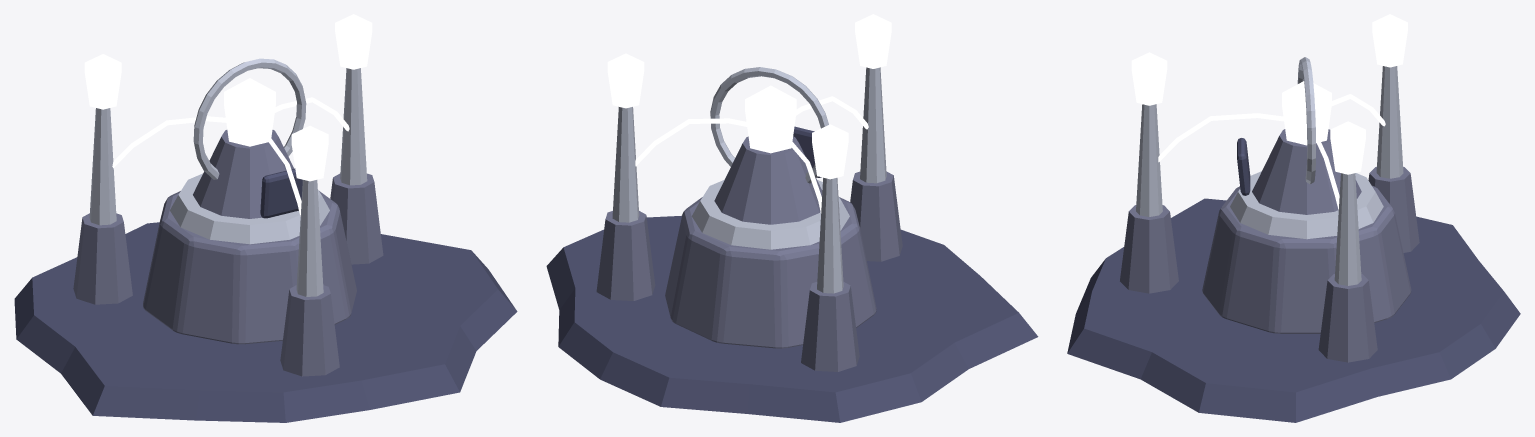
Rendered from thunder-highlands-lod2.glb.
3 views of the same model, side by side, from view 1: azimuth 30°, elevation 25°; view 2: azimuth 150°, elevation 25°; view 3: azimuth 270°, elevation 25° (orthographic). The views are drawn at different scales.
Visible parts, largest first — view 1: STONE_TERRAIN_SOCKET, STONE_OBSERVATORY_LOWER, STONE_OBSERVATORY_DOME, STONE_CONDUCTOR_BASE_2, STONE_CONDUCTOR_BASE_1, TRIM_OBSERVATORY_GALLERY, STONE_CONDUCTOR_BASE_0, FX_CORE, FX_RING_PRIMARY, METAL_CONDUCTOR_2, METAL_CONDUCTOR_1, METAL_CONDUCTOR_0 (+6 smaller); view 2: STONE_TERRAIN_SOCKET, STONE_OBSERVATORY_LOWER, STONE_OBSERVATORY_DOME, STONE_CONDUCTOR_BASE_1, STONE_CONDUCTOR_BASE_0, TRIM_OBSERVATORY_GALLERY, STONE_CONDUCTOR_BASE_2, FX_CORE, METAL_CONDUCTOR_1, METAL_CONDUCTOR_0, METAL_CONDUCTOR_2, FX_RING_PRIMARY (+5 smaller); view 3: STONE_TERRAIN_SOCKET, STONE_OBSERVATORY_LOWER, STONE_OBSERVATORY_DOME, STONE_CONDUCTOR_BASE_0, STONE_CONDUCTOR_BASE_2, TRIM_OBSERVATORY_GALLERY, METAL_CONDUCTOR_0, METAL_CONDUCTOR_2, METAL_CONDUCTOR_1, FX_CORE, STONE_CONDUCTOR_BASE_1, EMISSIVE_CONDUCTOR_TIP_2 (+5 smaller).
Part boxes in pixels (x1,y1,x2,y2): STONE_TERRAIN_SOCKET: (14,222,517,422); STONE_OBSERVATORY_LOWER: (143,191,356,344); STONE_OBSERVATORY_DOME: (193,130,293,218); STONE_CONDUCTOR_BASE_2: (280,285,339,376); STONE_CONDUCTOR_BASE_1: (73,213,132,304); TRIM_OBSERVATORY_GALLERY: (170,173,329,244); STONE_CONDUCTOR_BASE_0: (330,173,383,264); FX_CORE: (224,78,275,146); FX_RING_PRIMARY: (193,58,306,179); METAL_CONDUCTOR_2: (296,180,323,296); METAL_CONDUCTOR_1: (89,108,116,225); METAL_CONDUCTOR_0: (340,68,367,185); STONE_TERRAIN_SOCKET: (546,215,1038,422); STONE_OBSERVATORY_LOWER: (665,197,876,348); STONE_OBSERVATORY_DOME: (714,136,822,224); STONE_CONDUCTOR_BASE_1: (801,281,859,371); STONE_CONDUCTOR_BASE_0: (596,211,655,300); TRIM_OBSERVATORY_GALLERY: (691,180,849,249); STONE_CONDUCTOR_BASE_2: (850,171,902,261); FX_CORE: (745,85,796,153); METAL_CONDUCTOR_1: (817,177,843,293); METAL_CONDUCTOR_0: (612,107,639,222); METAL_CONDUCTOR_2: (860,67,886,183); FX_RING_PRIMARY: (710,67,828,183); STONE_TERRAIN_SOCKET: (1067,198,1520,422); STONE_OBSERVATORY_LOWER: (1202,185,1411,333); STONE_OBSERVATORY_DOME: (1252,129,1361,214); STONE_CONDUCTOR_BASE_0: (1318,274,1377,362); STONE_CONDUCTOR_BASE_2: (1120,205,1178,293); TRIM_OBSERVATORY_GALLERY: (1230,171,1383,239); METAL_CONDUCTOR_0: (1334,173,1361,285); METAL_CONDUCTOR_2: (1136,104,1162,216); METAL_CONDUCTOR_1: (1376,66,1403,178); FX_CORE: (1282,81,1331,145); STONE_CONDUCTOR_BASE_1: (1368,166,1419,252); EMISSIVE_CONDUCTOR_TIP_2: (1131,52,1167,105).
Size of the model in its own units: 1.8 by 1.01 by 1.65.
